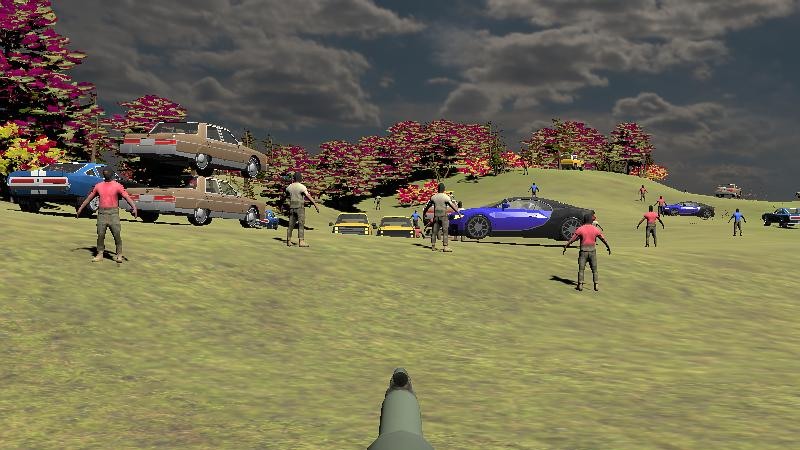Human: (77, 170, 137, 263), (563, 214, 610, 292), (637, 204, 664, 249), (728, 207, 746, 238)
car: (120, 121, 270, 177), (125, 176, 265, 227), (7, 159, 130, 213), (452, 196, 598, 241), (661, 200, 715, 219), (331, 212, 371, 237), (332, 212, 371, 237), (378, 216, 415, 239), (761, 207, 800, 228), (560, 152, 586, 172), (714, 183, 742, 199)
